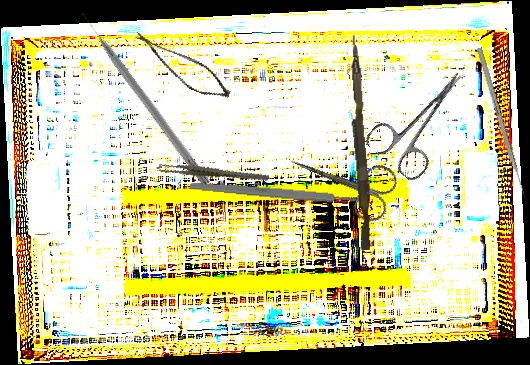Iris Scissors: (362, 54, 487, 185), (280, 133, 402, 227)
Micro Scissor: (123, 31, 239, 104)
Pusher: (78, 9, 213, 187), (475, 47, 530, 205), (342, 34, 377, 251)
Scalpel Handle: (189, 180, 363, 206)
Tissue Forceps: (157, 144, 270, 202)
